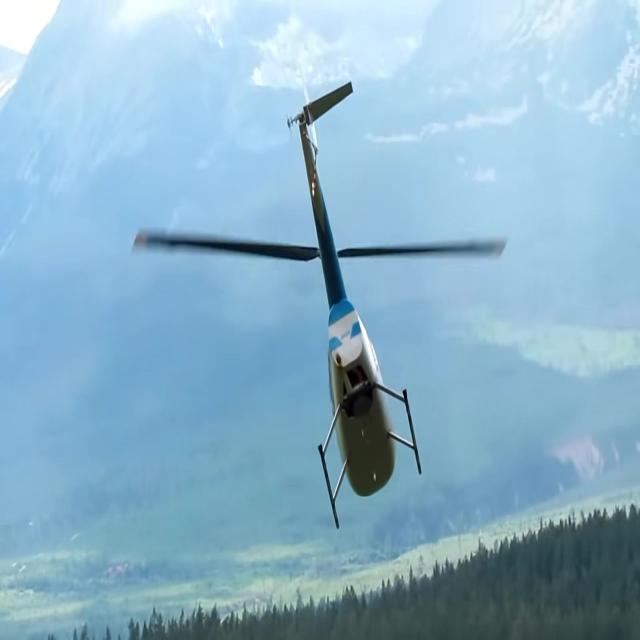CIV_HELO: (286, 62, 425, 538)
